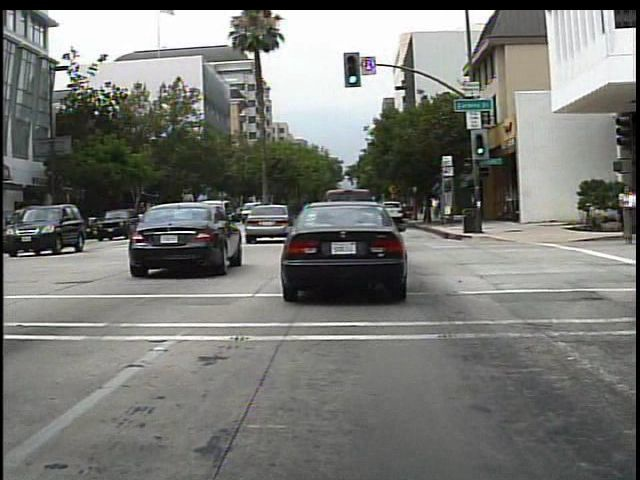person: (613, 181, 637, 249), (425, 191, 444, 224)
